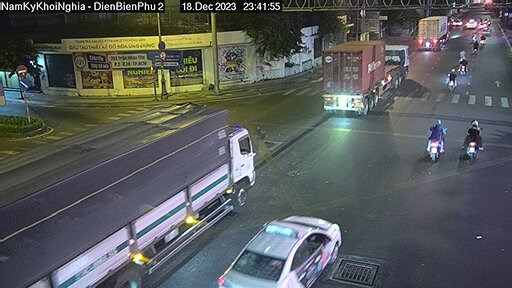car: (239, 192, 352, 288)
motorbike: (423, 113, 446, 160), (462, 116, 484, 159), (456, 52, 471, 74), (448, 65, 459, 88)
truck: (9, 101, 246, 269), (312, 36, 414, 122), (417, 11, 453, 53)
